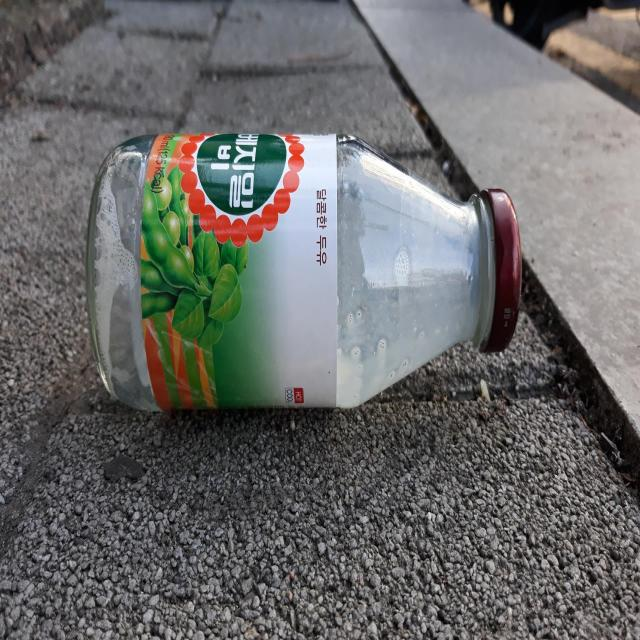glass: (86, 132, 520, 409)
